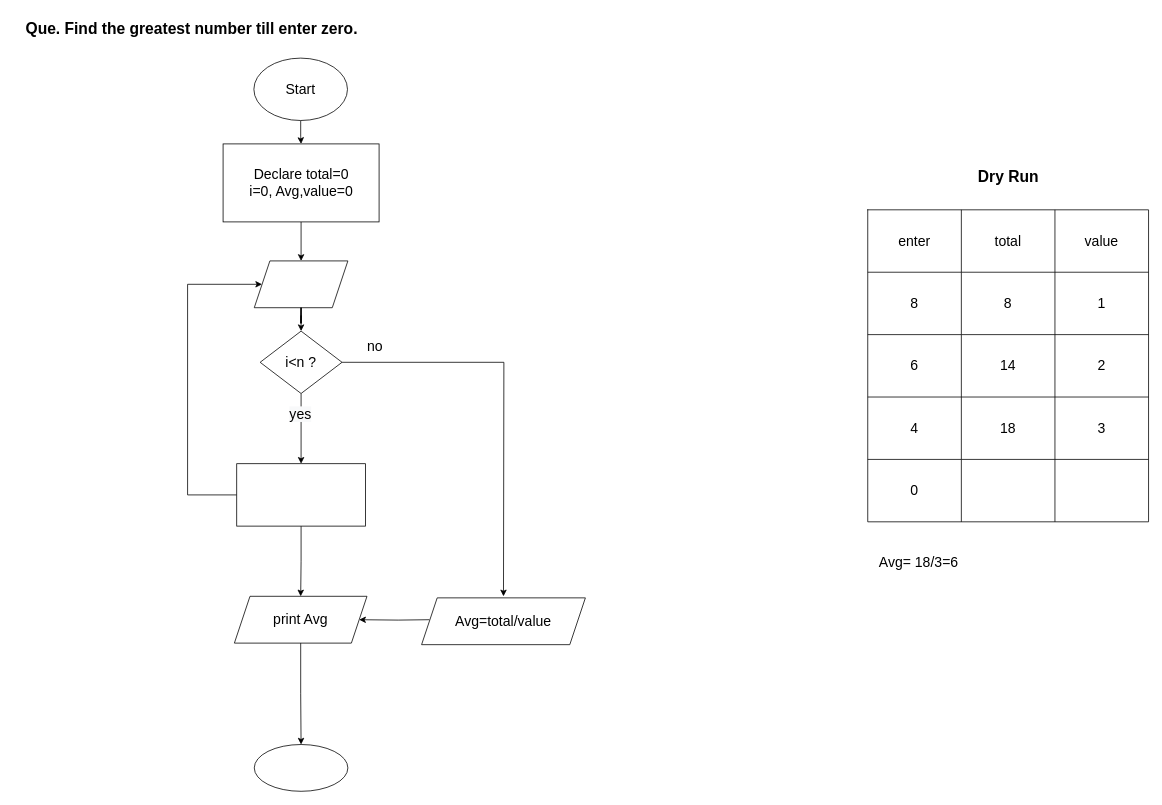
This 1162x805 diagram has some shape labels left out. Here are the shapes that lost their labels. From the top down, the box of each, then its label:
(254, 260, 348, 308): read n
(236, 463, 365, 526): total=total+n value=value+1
(254, 744, 348, 791): stop
